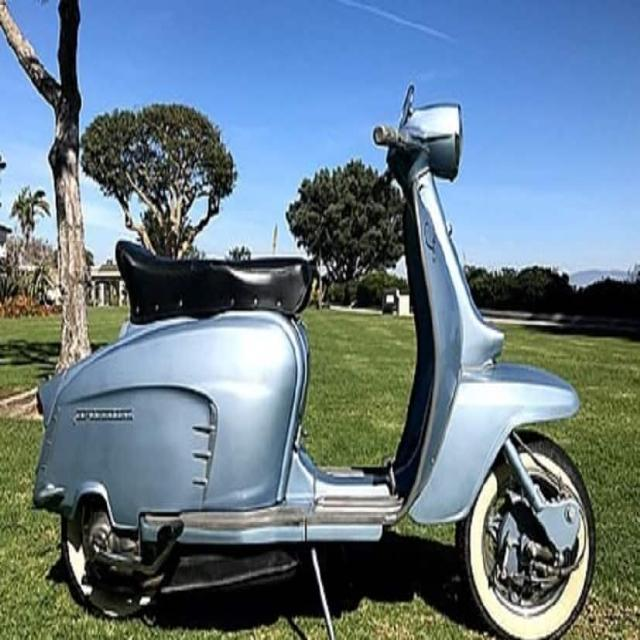motorcycle: (32, 85, 595, 636)
